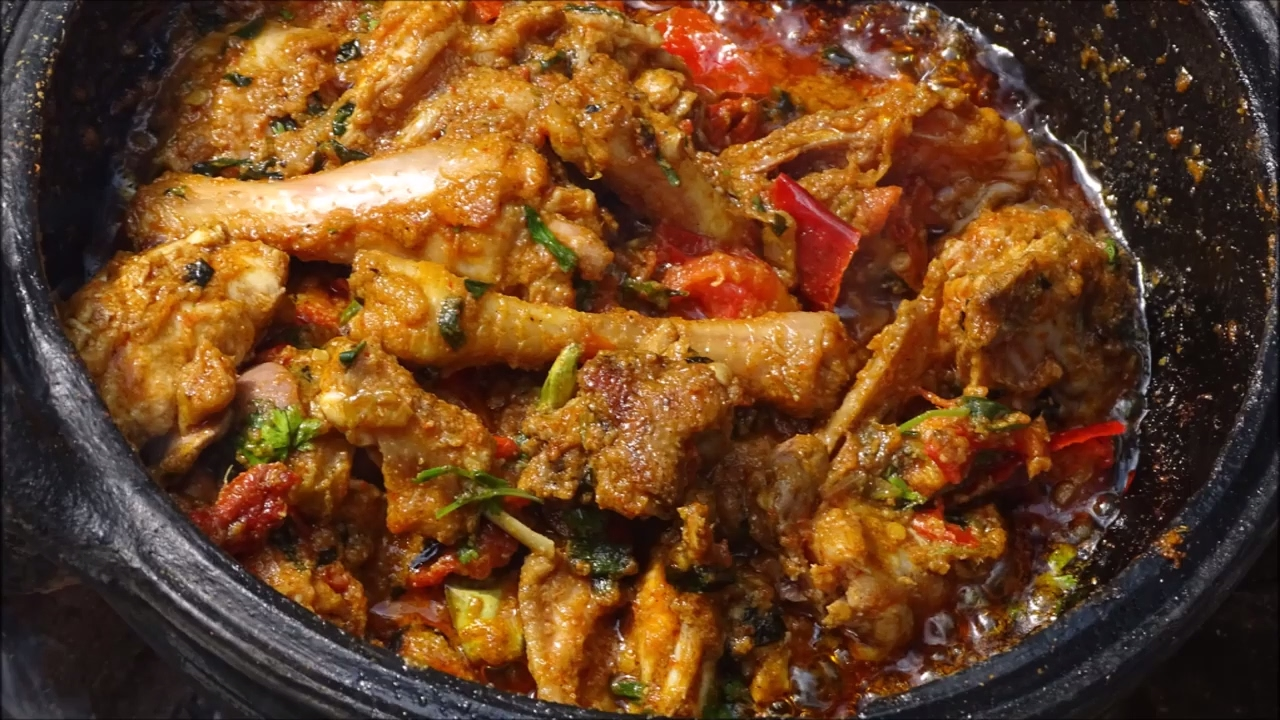chicken_curry: (149, 8, 1160, 652)
